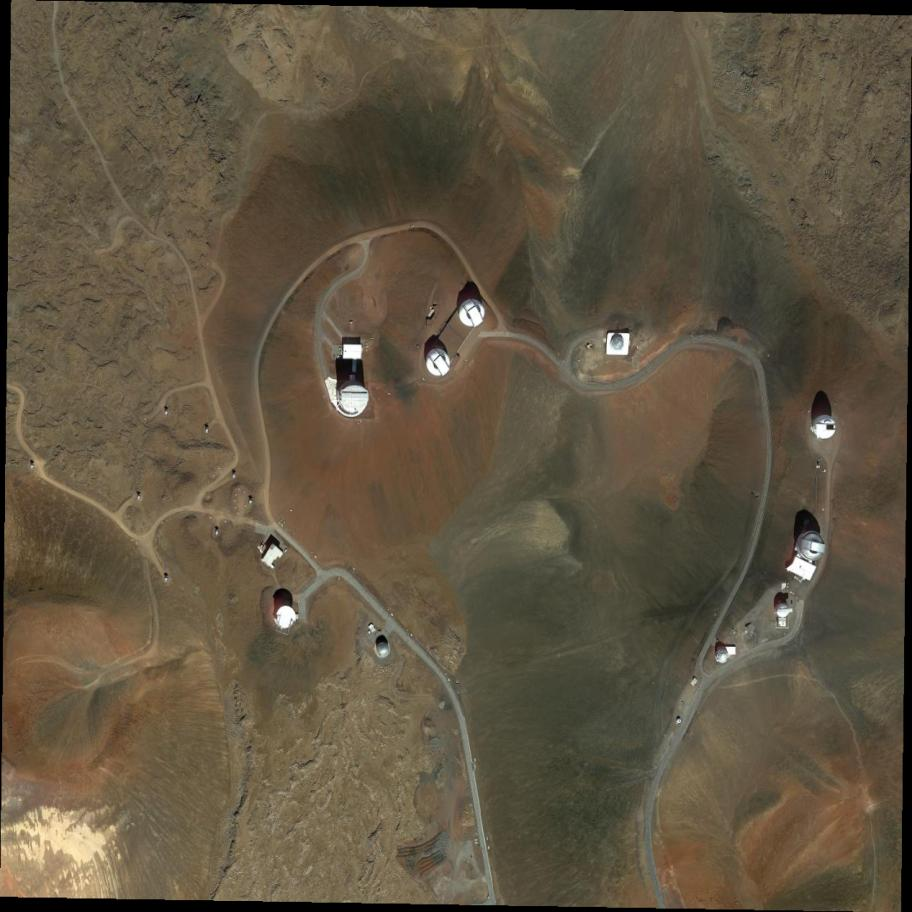storage-tank: (338, 384, 371, 418), (797, 528, 826, 563), (458, 297, 487, 328), (425, 349, 452, 378), (608, 330, 631, 355), (816, 413, 837, 440), (275, 606, 298, 630), (777, 603, 791, 619), (377, 642, 390, 657), (717, 648, 729, 664)
